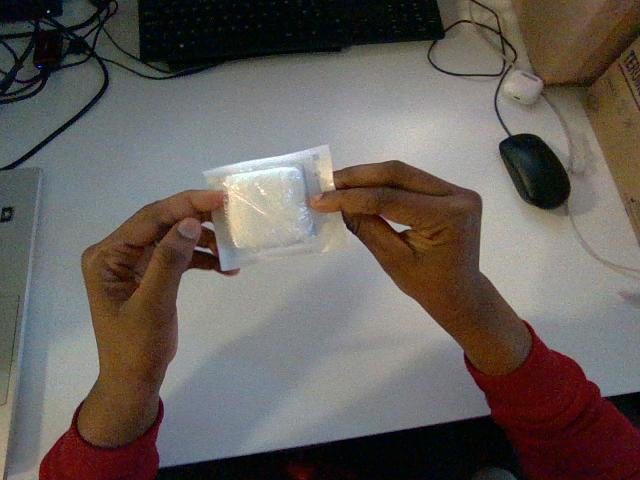gauze: (204, 146, 346, 270)
